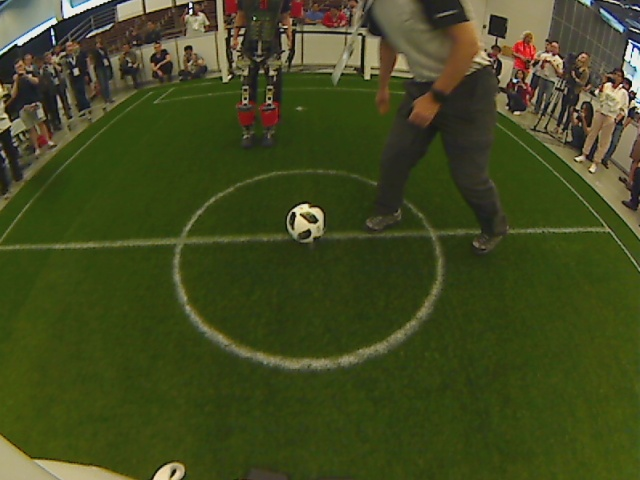ball: (286, 204, 326, 248)
goalpost: (211, 68, 238, 92), (353, 63, 376, 86)
robot: (231, 117, 285, 154)
